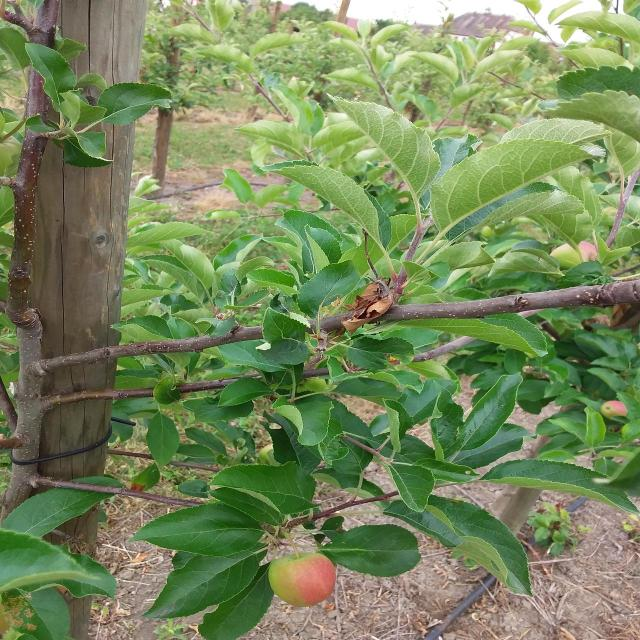-FireBlight-: (333, 276, 402, 331)
